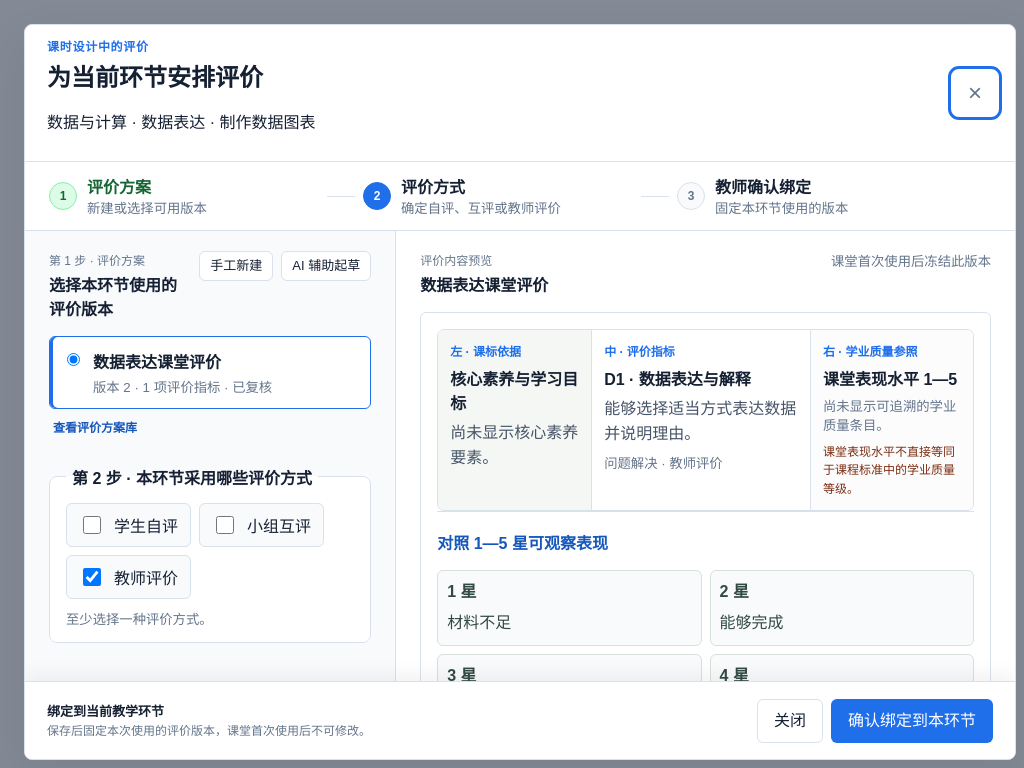
LessonStepEvaluationModal › binds an exact reviewed version and keeps classroom evaluation methods explicit
Click the checkbox labelled "学生自评".
click(92, 525)  # box [83,516,101,534]
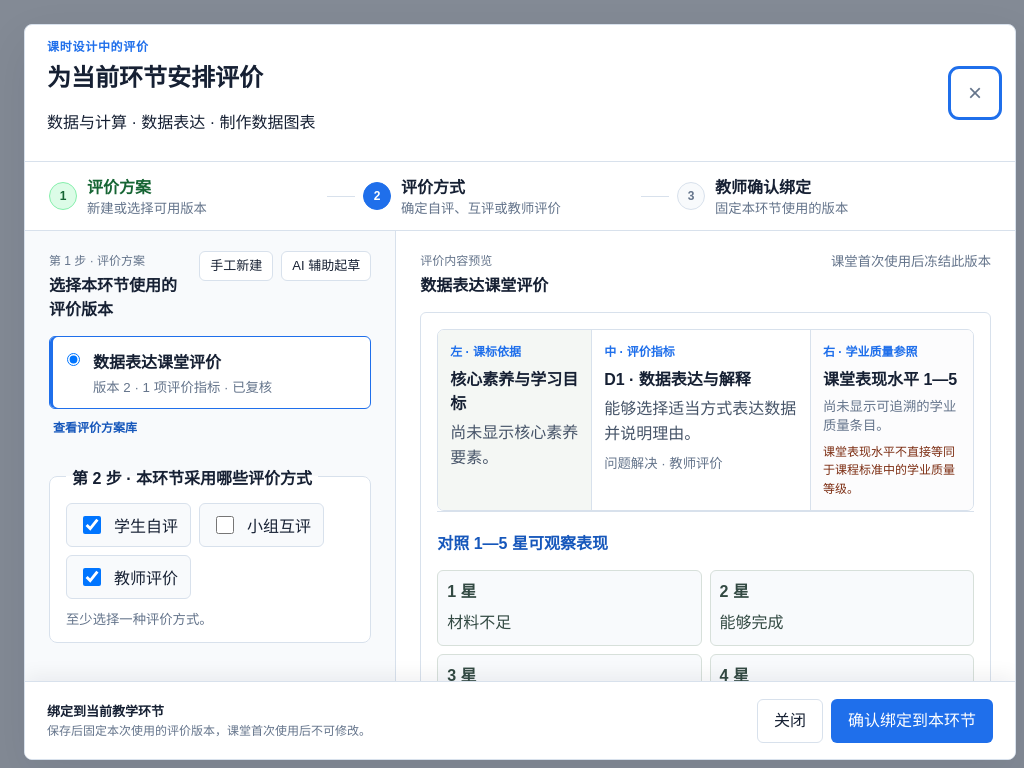
Click the button "确认绑定到本环节".
click(912, 720)  # box [831,698,993,742]
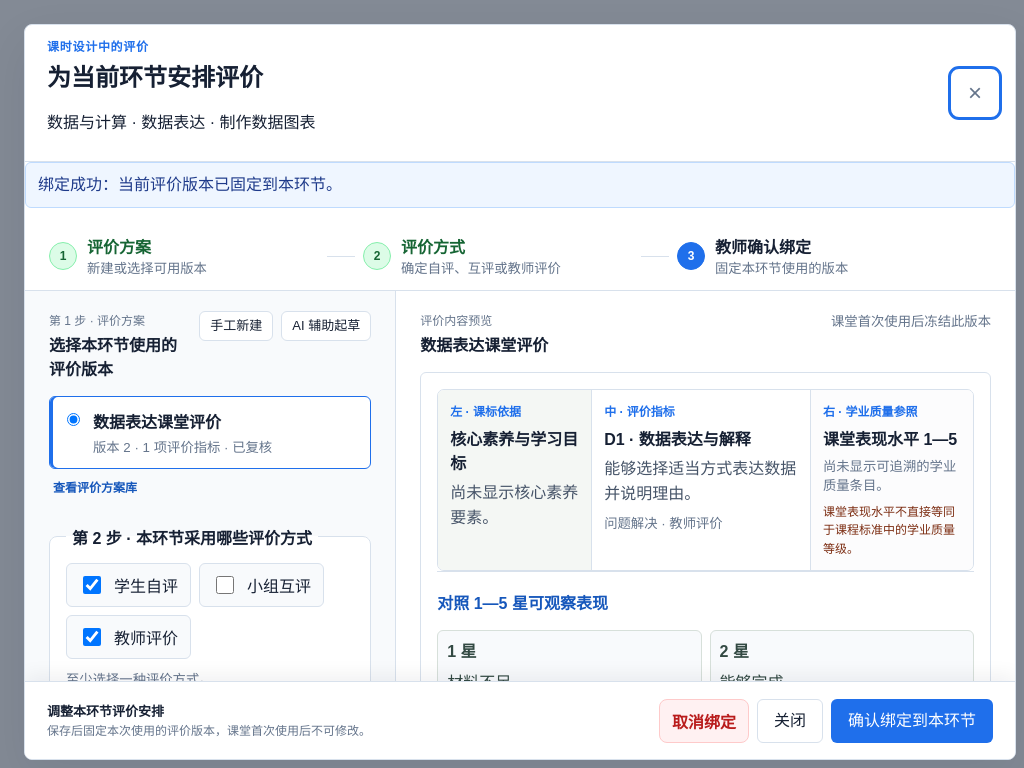
Now the text "绑定成功" is shown, box [38,176,342,193]
